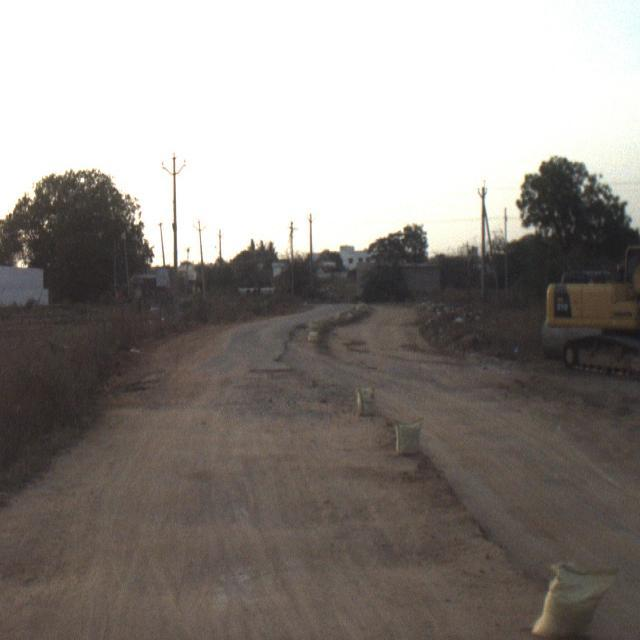pothole: (349, 488, 532, 596), (234, 369, 329, 437), (118, 366, 194, 427), (259, 322, 326, 363)
